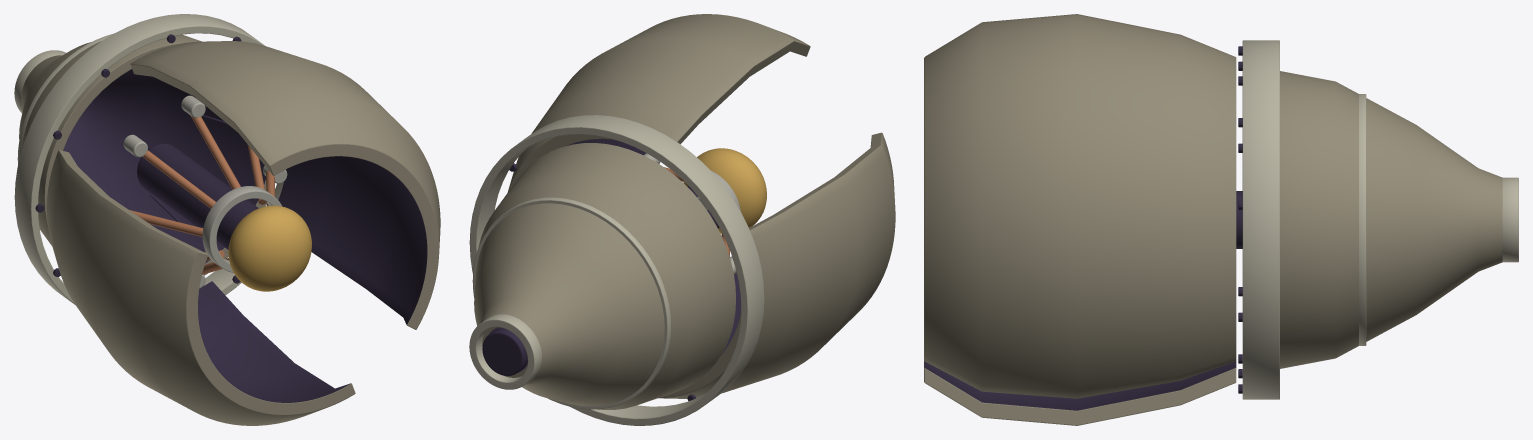
3 renders of one model, left to right at view 1: azimuth 30°, elevation 25°; view 2: azimuth 150°, elevation 25°; view 3: azimuth 270°, elevation 25°, orthographic. The views are drawn at different scales.
Visible parts, largest first — view 1: Broad opposed shell lobe, Broad opposed shell lobe.001, Tapered connector pressure shell, Broad mounting collar, Gold central emitter, Shield axial equipment spine, Emitter insulator collar, Internal copper feed.003, Internal copper feed.002, Connector terminal lip, Connector service ring, Internal copper feed.004 (+2 smaller); view 2: Tapered connector pressure shell, Broad opposed shell lobe.001, Broad opposed shell lobe, Broad mounting collar, Connector service ring, Gold central emitter, Connector terminal lip, Recessed connector interior; view 3: Broad opposed shell lobe, Tapered connector pressure shell, Broad mounting collar, Broad opposed shell lobe.001, Connector service ring, Connector terminal lip.
Part boxes in pixels (bbox=[...]): Broad opposed shell lobe: bbox=[130, 41, 440, 329]; Broad opposed shell lobe.001: bbox=[46, 150, 355, 425]; Tapered connector pressure shell: bbox=[19, 34, 266, 275]; Broad mounting collar: bbox=[14, 14, 286, 304]; Gold central emitter: bbox=[228, 205, 311, 291]; Shield axial equipment spine: bbox=[137, 143, 258, 249]; Emitter insulator collar: bbox=[202, 186, 282, 272]; Internal copper feed.003: bbox=[142, 150, 215, 208]; Internal copper feed.002: bbox=[190, 115, 240, 189]; Connector terminal lip: bbox=[14, 50, 65, 113]; Connector service ring: bbox=[17, 33, 113, 164]; Internal copper feed.004: bbox=[129, 210, 203, 236]; Tapered connector pressure shell: bbox=[474, 143, 735, 409]; Broad opposed shell lobe.001: bbox=[658, 132, 895, 398]; Broad opposed shell lobe: bbox=[507, 14, 810, 192]; Broad mounting collar: bbox=[469, 115, 764, 425]; Connector service ring: bbox=[472, 197, 670, 409]; Gold central emitter: bbox=[683, 148, 766, 233]; Connector terminal lip: bbox=[469, 314, 541, 389]; Recessed connector interior: bbox=[482, 327, 527, 375]; Broad opposed shell lobe: bbox=[924, 14, 1236, 398]; Tapered connector pressure shell: bbox=[1280, 71, 1502, 368]; Broad mounting collar: bbox=[1242, 40, 1279, 399]; Broad opposed shell lobe.001: bbox=[924, 361, 1236, 425]; Connector service ring: bbox=[1359, 94, 1366, 345]; Connector terminal lip: bbox=[1502, 177, 1518, 262].
Size of the model in its own units: 2 by 2 by 2.88.
